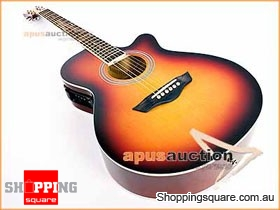guitar: (22, 5, 265, 199)
